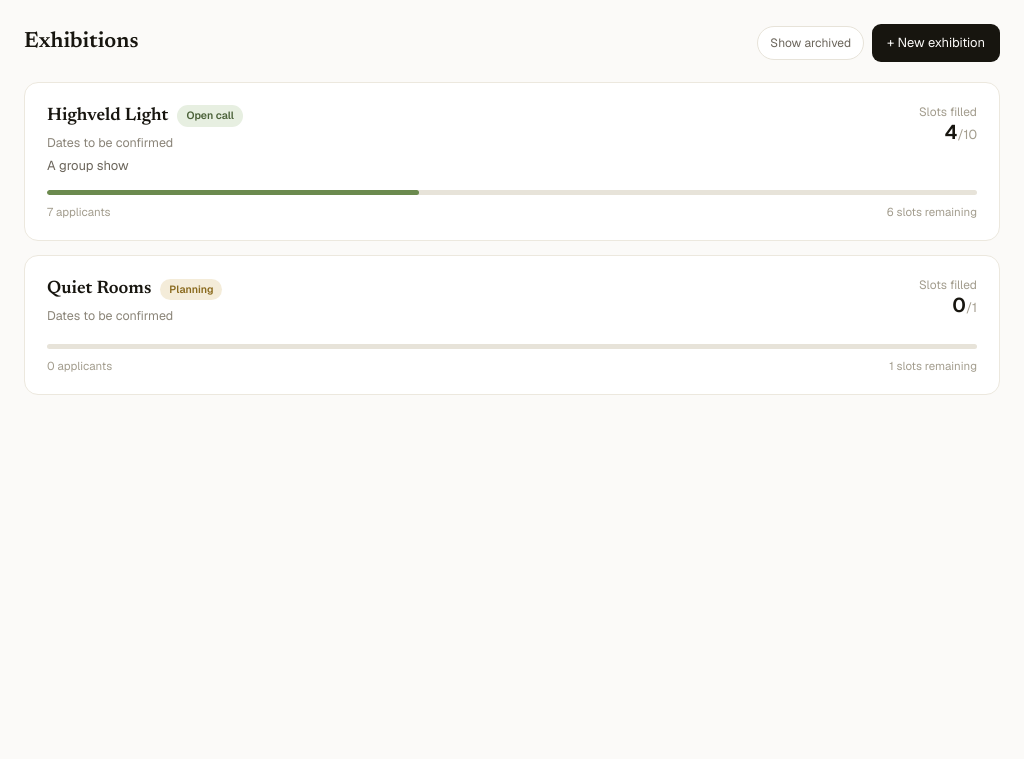
Test: ExhibitionsPanel detail drawer › lists only the accepted works for the opened exhibition
Click the heading "Highveld Light" at (108, 116), box [47, 102, 168, 130]
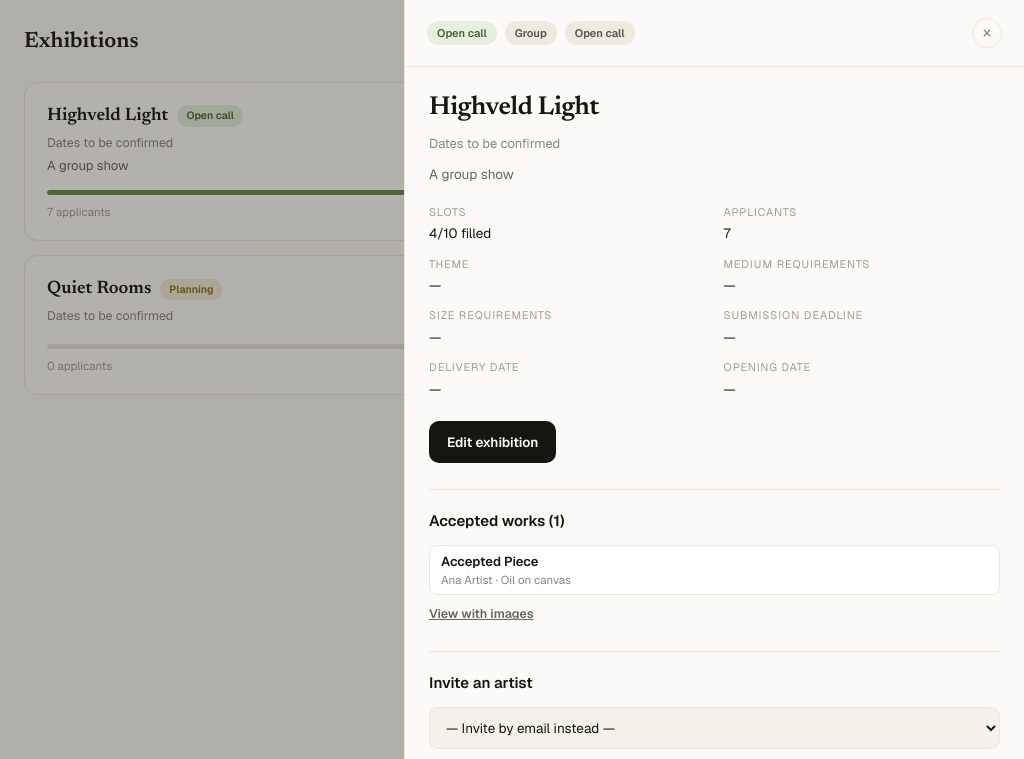
Expected: the text "Accepted works (1)" is shown, [429, 511, 564, 530]
Expected: the text "Accepted Piece" is shown, [441, 552, 538, 570]
